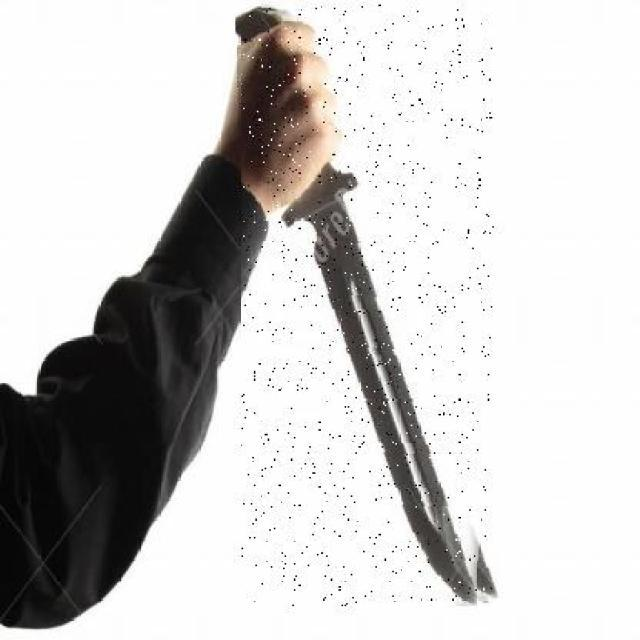knife: (240, 5, 494, 607)
